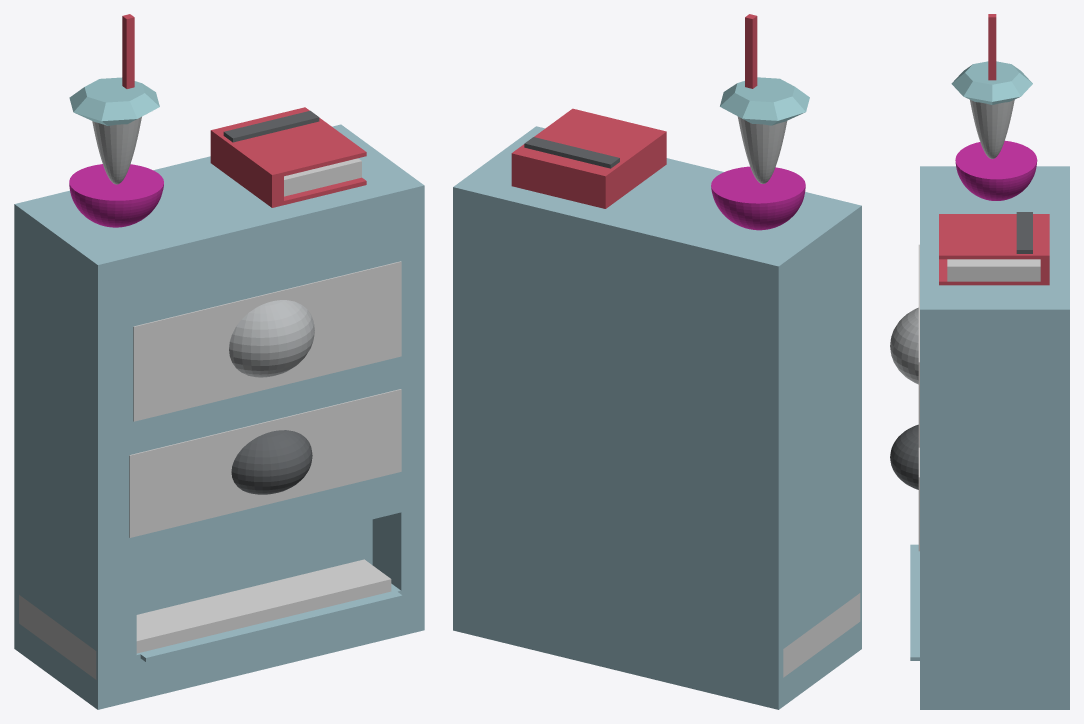
Rendered from Project 149 (2).glb.
3 renders of one model, left to right at view 1: azimuth 30°, elevation 25°; view 2: azimuth 150°, elevation 25°; view 3: azimuth 270°, elevation 25°, orthographic. The views are drawn at different scales.
Visible parts, largest first — view 1: Mesh_Mesh_head_geo.001_lambert2SG.001; view 2: Mesh_Mesh_head_geo.001_lambert2SG.001; view 3: Mesh_Mesh_head_geo.001_lambert2SG.001.
Part boxes in pixels (<box>): Mesh_Mesh_head_geo.001_lambert2SG.001: <box>14,14,424,709</box>; Mesh_Mesh_head_geo.001_lambert2SG.001: <box>453,14,861,709</box>; Mesh_Mesh_head_geo.001_lambert2SG.001: <box>890,14,1069,709</box>.
Bounding box in the file's own units: 83 × 157 × 44.
